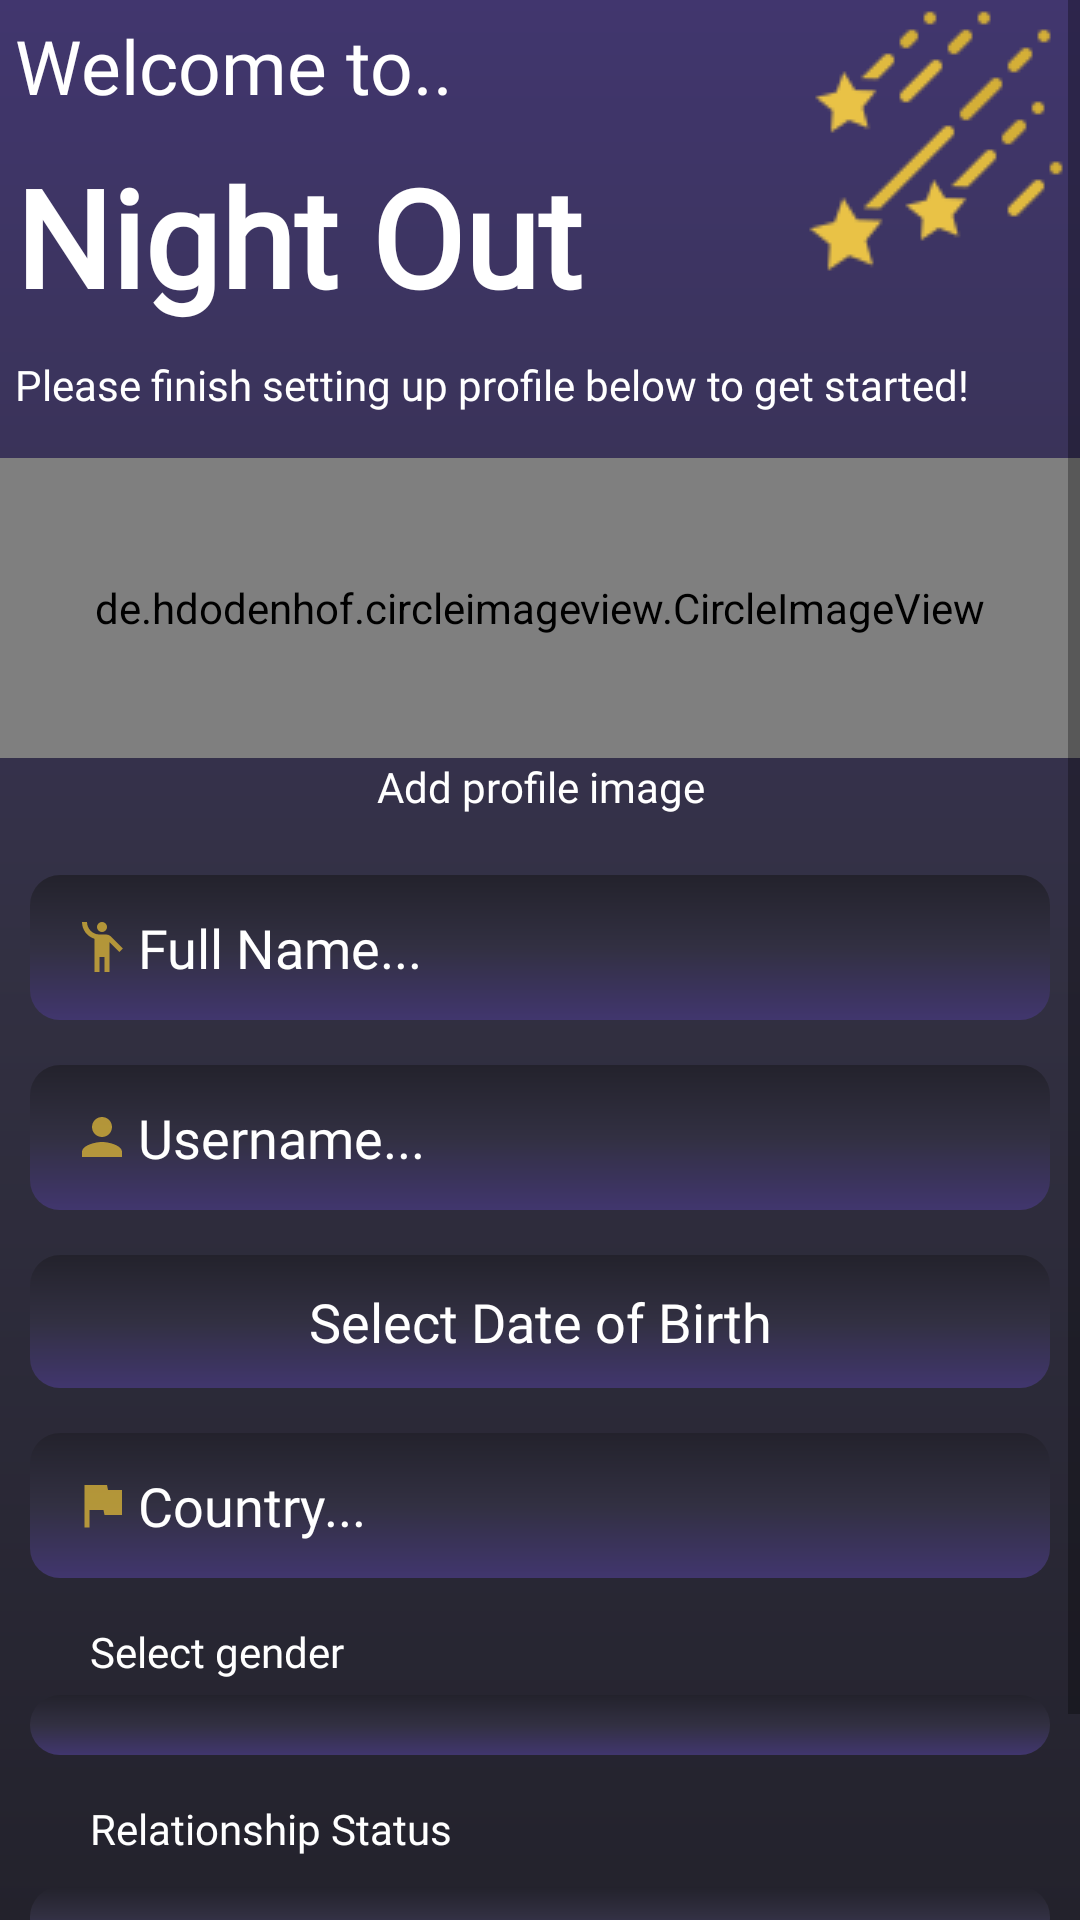

Icons on this 1080×1920 Android screen, each with its box as box=[x1, y1, x2, y2]:
shooting stars: box=[809, 11, 1063, 271]
